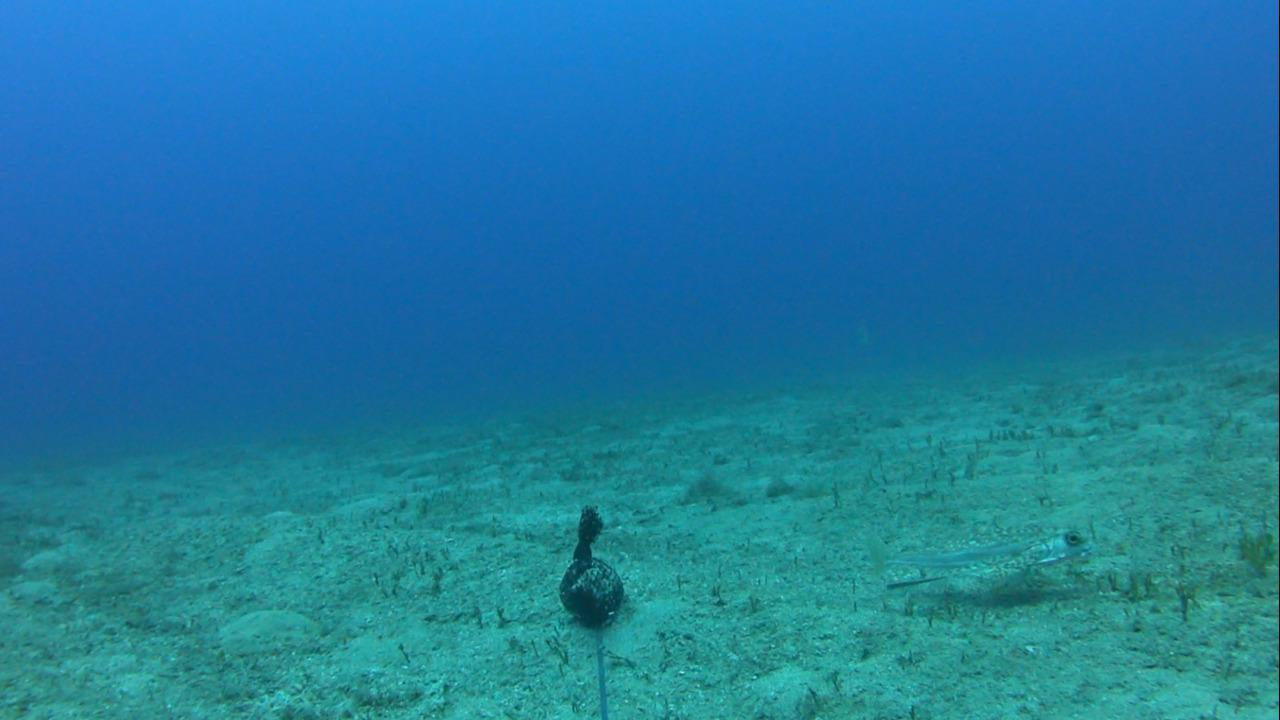dactylopterus: (867, 521, 1089, 594)
